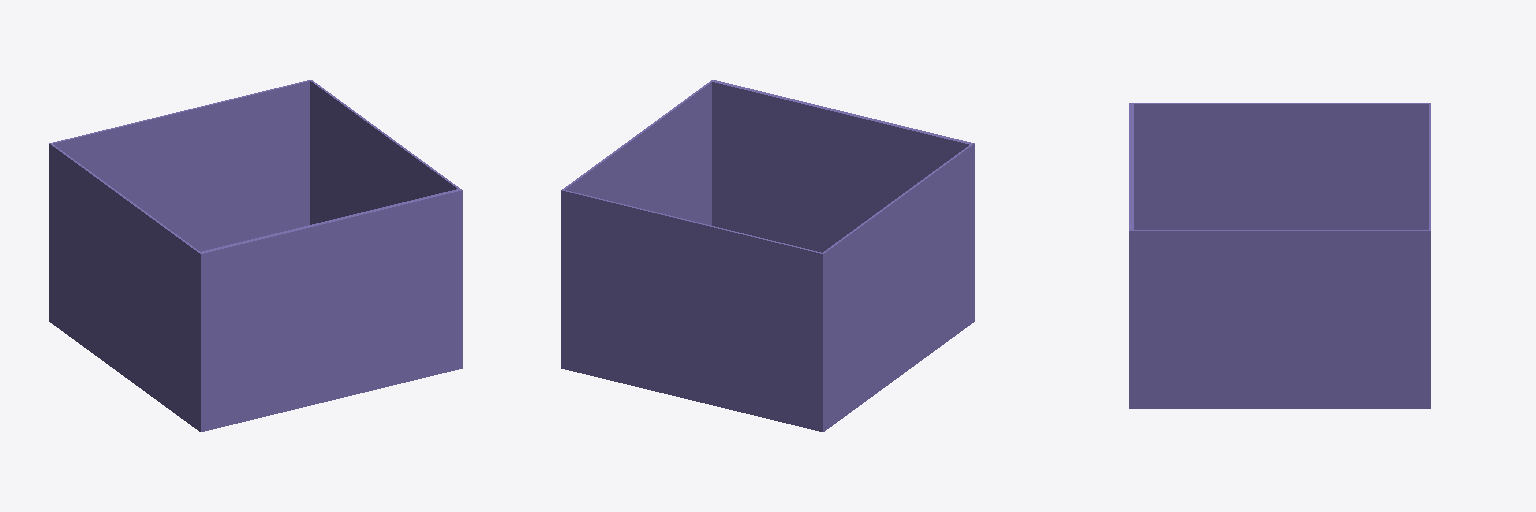
3 renders of one model, left to right at view 1: azimuth 30°, elevation 25°; view 2: azimuth 150°, elevation 25°; view 3: azimuth 270°, elevation 25°, orthographic.
Visible parts, largest first — view 1: stage_1; view 2: stage_1; view 3: stage_1.
Boxes of the visible parts, <box> form: stage_1: <box>49,80,462,431</box>; stage_1: <box>561,80,974,431</box>; stage_1: <box>1129,103,1430,408</box>.
Bounding box in the file's own units: 120 × 78 × 120.
1 materials, 1 textured.